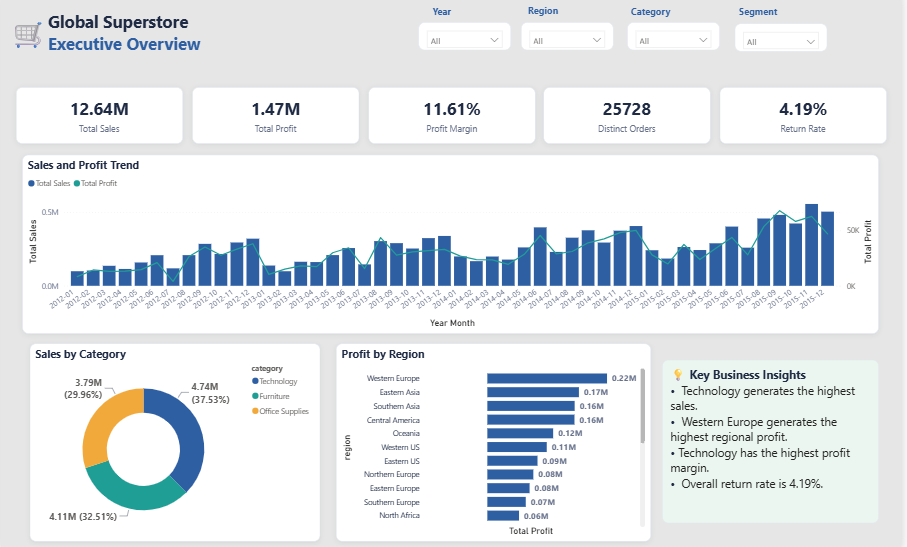

What the dashboard file says about the page in this screenshot:
{"tool":"powerbi","page":{"name":"01 Executive Overview","canvas":[1440,900],"ordinal":0},"visuals":[{"type":"textbox","box":[0,33.2,86,78.4],"z":2000},{"type":"textbox","box":[70,25,661.7,128.3],"z":3000},{"type":"slicer","fields":{"Values":["public dim_geography.region"]},"box":[831.7,50,148.3,45],"z":4000},{"type":"slicer","fields":{"Values":["public dim_product.category"]},"box":[1001.7,50,148.3,45],"z":5000},{"type":"slicer","fields":{"Values":["public dim_customer.segment"]},"box":[1173.3,51.7,148.3,45],"z":6000},{"type":"card","fields":{"Values":["public fact_order_lines.Total Sales"]},"box":[23.3,153.3,266.8,90],"z":7000,"group":"g1"},{"type":"lineClusteredColumnComboChart","title":"Sales and Profit Trend","fields":{"Category":["DateTable.Year Month"],"Y":["public fact_order_lines.Total Sales"],"Y2":["public bridge_returns.Total Profit"]},"box":[34.7,262.4,1370,286.7],"z":7000},{"type":"card","fields":{"Values":["public bridge_returns.Total Profit"]},"box":[304.9,153.3,266.8,90],"z":8000,"group":"g1"},{"type":"donutChart","title":"Sales by Category","fields":{"Category":["public dim_product.category"],"Y":["public fact_order_lines.Total Sales"]},"box":[46.7,563.3,465,316.7],"z":8000},{"type":"card","fields":{"Values":["public bridge_returns.Profit Margin"]},"box":[586.6,153.3,266.8,90],"z":9000,"group":"g1"},{"type":"barChart","title":"Profit by Region","fields":{"Category":["public dim_geography.region"],"Y":["public bridge_returns.Total Profit"]},"box":[535,563.3,503.7,316.7],"z":9000},{"type":"card","fields":{"Values":["public bridge_returns.Distinct Orders"]},"box":[868.3,153.3,266.8,90],"z":10000,"group":"g1"},{"type":"textbox","box":[1058.3,590,346.7,261.7],"z":10000},{"type":"slicer","fields":{"Values":["public dim_geography.region"]},"box":[668.3,50,148.3,45],"z":11000},{"type":"card","fields":{"Values":["public fact_order_lines.Return Rate"]},"box":[1149.9,153.3,266.8,90],"z":11000,"group":"g1"},{"type":"textbox","box":[668.3,18.3,75,41.7],"z":12000},{"type":"textbox","box":[1001.7,18.3,75,41.7],"z":13000},{"type":"textbox","box":[830,16.7,75,41.7],"z":14000},{"type":"textbox","box":[1173.3,18.3,75,41.7],"z":15000},{"type":"group","id":"g1","title":"Group 1","box":[23.3,153.3,1393.3,90],"z":16000}]}

Visuals, with their boxes on the page's 1440x900 design canvas (x1, y1, x2, y2). These are canvas units, not pixel positions in the 907x547 screenshot, which may show the page scaled, cropped or inside an application window:
textbox: (x1=0, y1=33, x2=86, y2=112)
textbox: (x1=70, y1=25, x2=732, y2=153)
slicer - public dim_geography.region: (x1=832, y1=50, x2=980, y2=95)
slicer - public dim_product.category: (x1=1002, y1=50, x2=1150, y2=95)
slicer - public dim_customer.segment: (x1=1173, y1=52, x2=1322, y2=97)
card - public fact_order_lines.Total Sales: (x1=23, y1=153, x2=290, y2=243)
"Sales and Profit Trend" lineClusteredColumnComboChart: (x1=35, y1=262, x2=1405, y2=549)
card - public bridge_returns.Total Profit: (x1=305, y1=153, x2=572, y2=243)
"Sales by Category" donutChart: (x1=47, y1=563, x2=512, y2=880)
card - public bridge_returns.Profit Margin: (x1=587, y1=153, x2=853, y2=243)
"Profit by Region" barChart: (x1=535, y1=563, x2=1039, y2=880)
card - public bridge_returns.Distinct Orders: (x1=868, y1=153, x2=1135, y2=243)
textbox: (x1=1058, y1=590, x2=1405, y2=852)
slicer - public dim_geography.region: (x1=668, y1=50, x2=817, y2=95)
card - public fact_order_lines.Return Rate: (x1=1150, y1=153, x2=1417, y2=243)
textbox: (x1=668, y1=18, x2=743, y2=60)
textbox: (x1=1002, y1=18, x2=1077, y2=60)
textbox: (x1=830, y1=17, x2=905, y2=58)
textbox: (x1=1173, y1=18, x2=1248, y2=60)
"Group 1" group: (x1=23, y1=153, x2=1417, y2=243)
